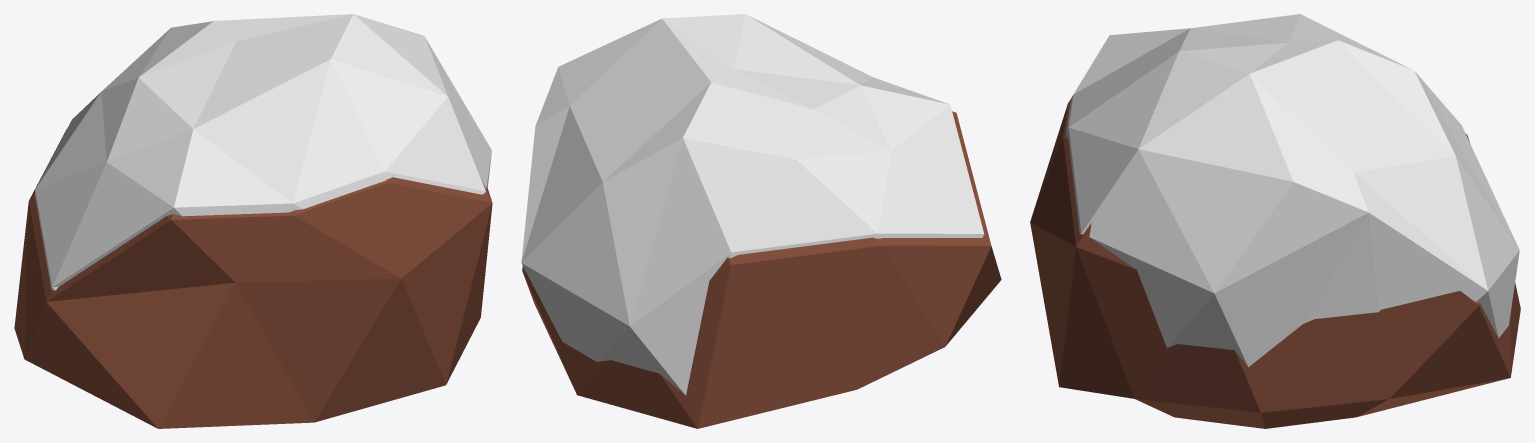
The model's file is Piedra Nevada.fbx.
The picture shows the model from 3 angles, left to right: view 1: azimuth 30°, elevation 25°; view 2: azimuth 150°, elevation 25°; view 3: azimuth 270°, elevation 25°; orthographic projection. The views are drawn at different scales.
Parts seen in each view (by area): view 1: Piedra 3 Nieve; view 2: Piedra 3 Nieve; view 3: Piedra 3 Nieve.
Boxes of the visible parts, x1,y1,x2,y2 form: Piedra 3 Nieve: (14,14,492,428); Piedra 3 Nieve: (521,14,1001,428); Piedra 3 Nieve: (1030,14,1520,428).
Size of the model in its own units: 344 by 231 by 311.
